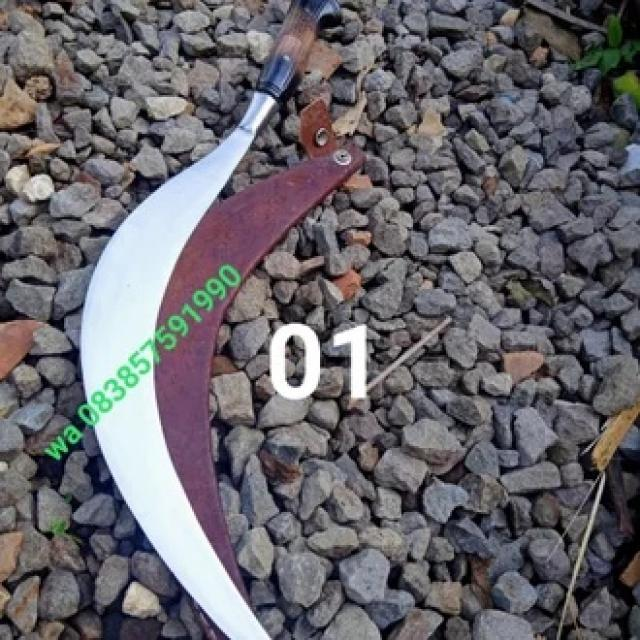machete: (82, 0, 322, 640)
